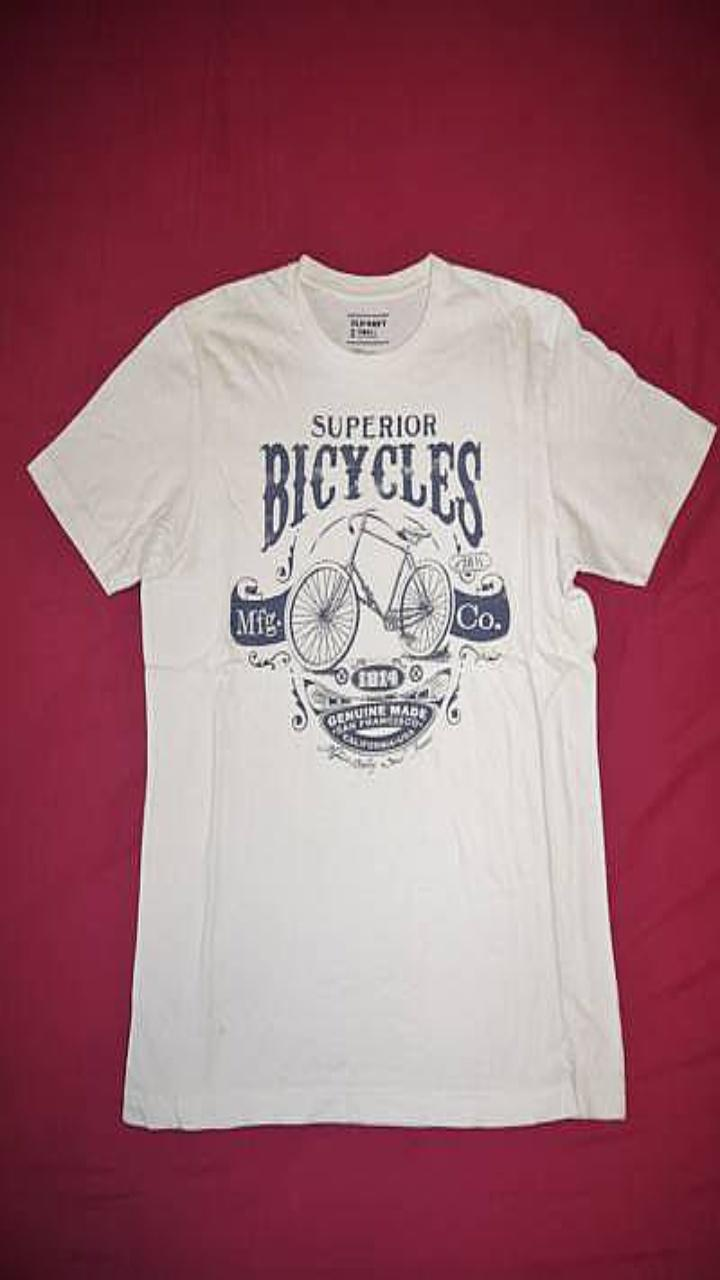T-Shirt: (27, 253, 715, 1128)
